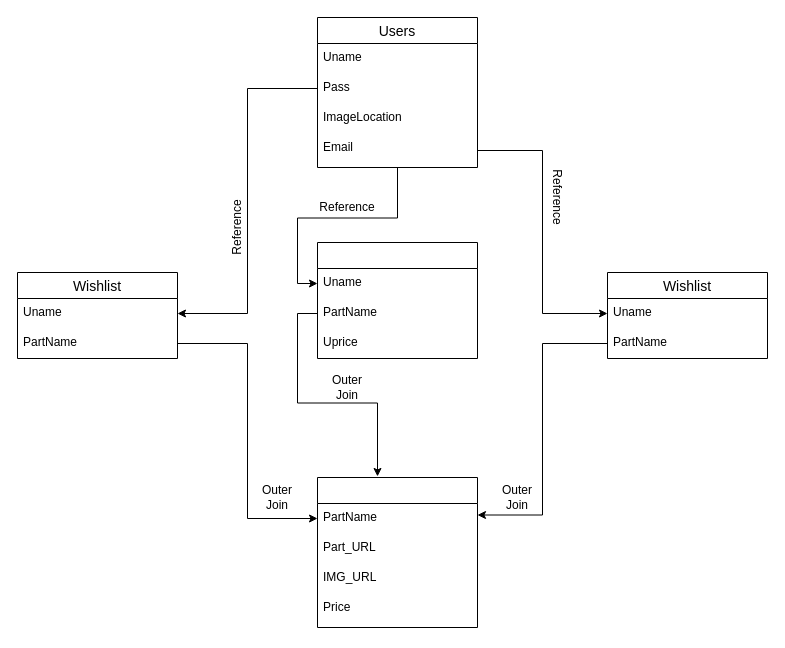
Image size: 785x648. Some labels were removed from this diagram. The shapes that lost their labels are listed below. From the top down, each one's box as (x1, y1, x2, y2) in pixels, then its label:
(316, 242, 478, 358): Auctioned
(316, 476, 478, 628): Parts
